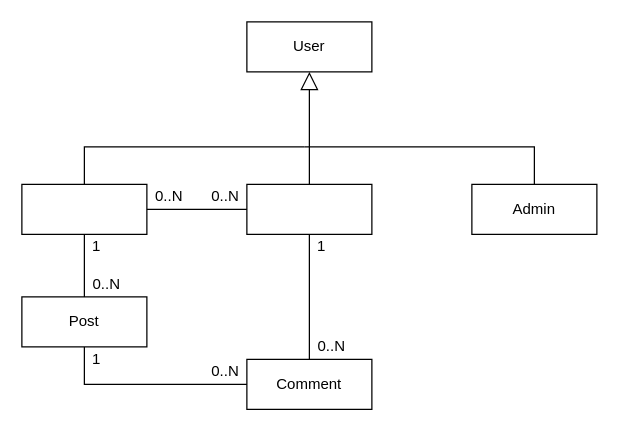
The diagram is 619 pixels wide and 431 high, and some of its shapes have lost their labels. The centre of each missing label's shape, as x and y in pixels:
Reader: the point at 309,208
Reporter: the point at 84,208
